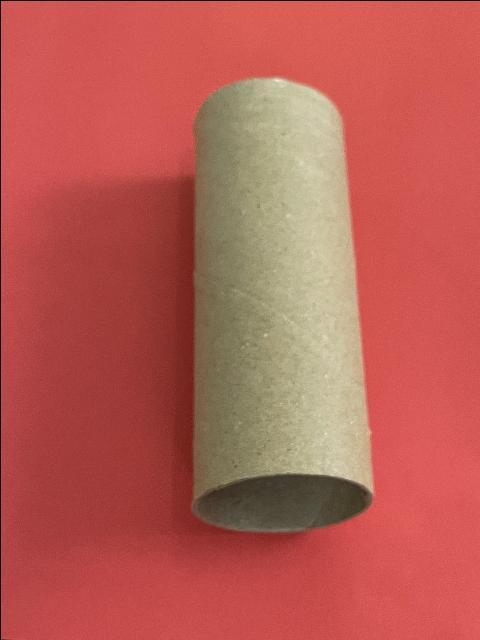tissueroll: (190, 74, 374, 534)
